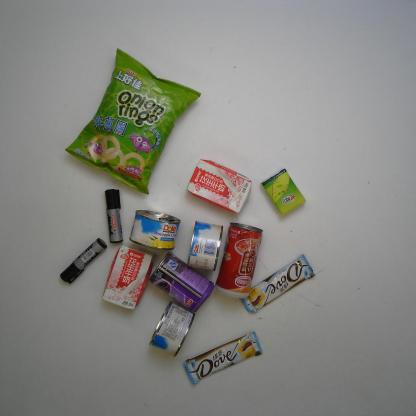Canned Food: (148, 250, 215, 313), (214, 221, 264, 300), (148, 300, 196, 358), (129, 209, 181, 251), (186, 219, 225, 273)
Chocolate: (240, 253, 316, 314), (183, 330, 263, 385)
Milk: (186, 157, 254, 215), (101, 244, 156, 311)
Puffed Food: (64, 47, 202, 197)
Stationery: (59, 236, 108, 286), (103, 188, 124, 245)
Tissue: (260, 168, 307, 220)
